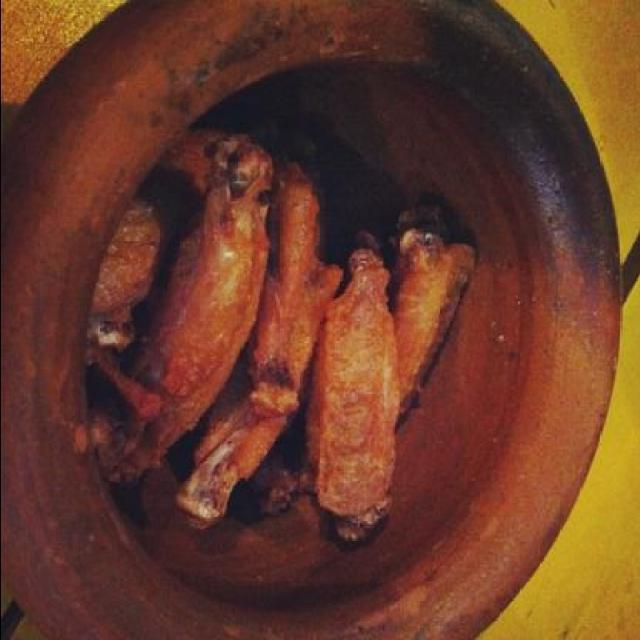Deep fried chicken wing: (76, 143, 484, 546)
